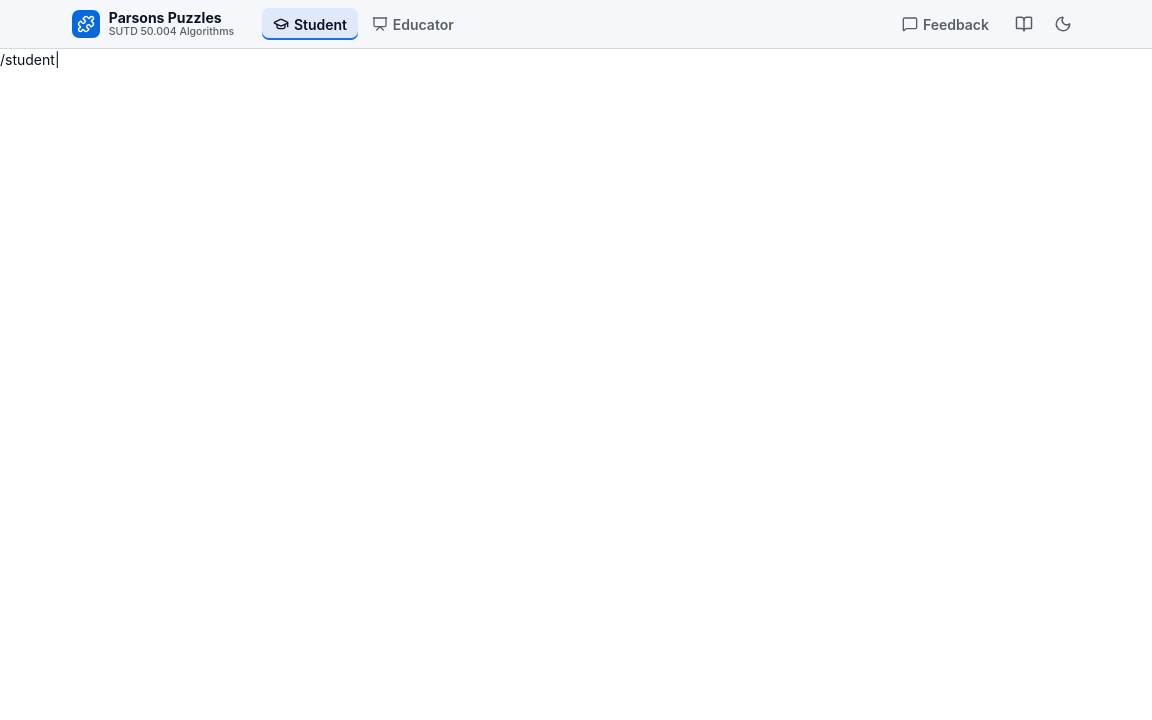
Scenario: NavigationHeader › offers an online search when no term matches
Click the button named "Open dictionary": (1024, 24) [1006,6,1042,42]
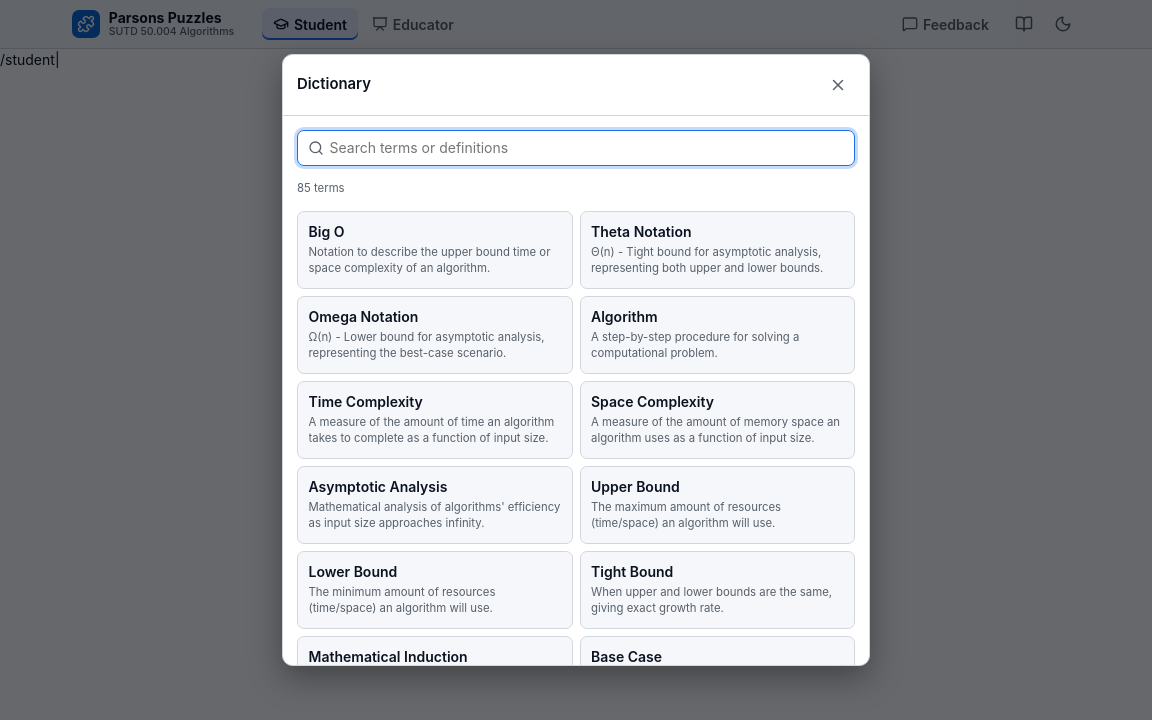
In the search field: (576, 148) [297,130,855,166], type "zzzz-not-a-term"
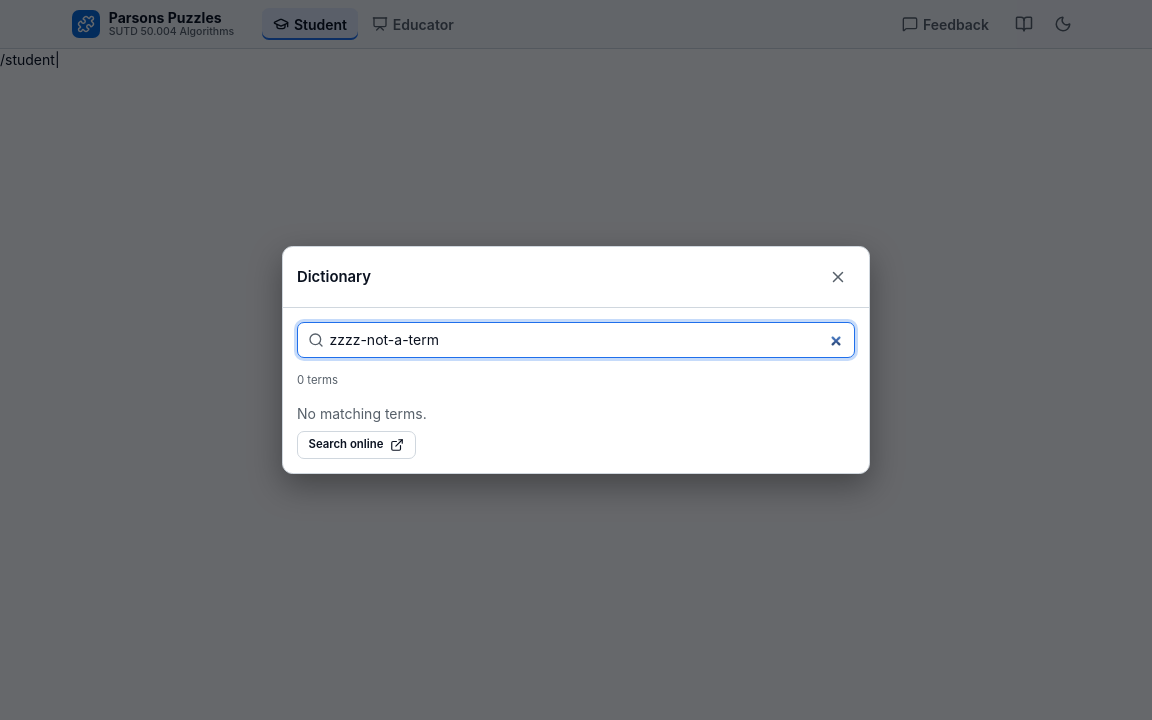
Expected: the text "No matching terms." is shown, [297,403,427,424]
